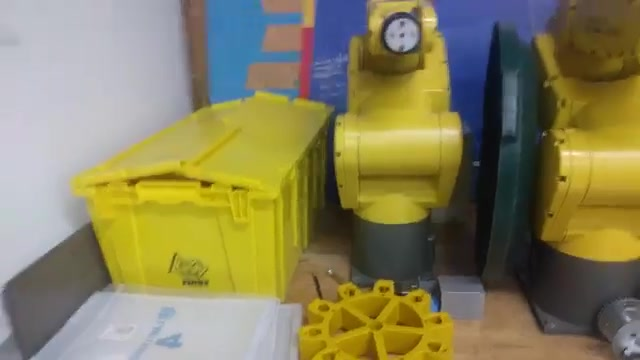gear: (296, 278, 455, 360)
